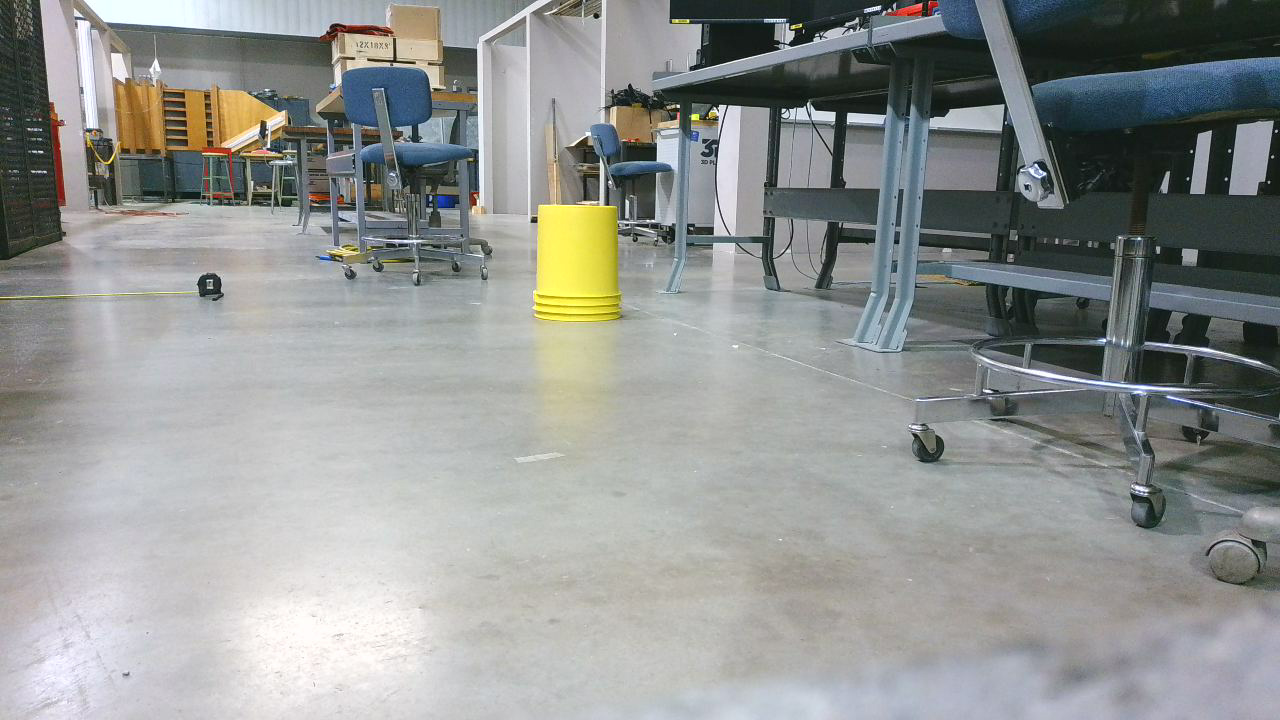yellow_bucket: (536, 209, 630, 329)
